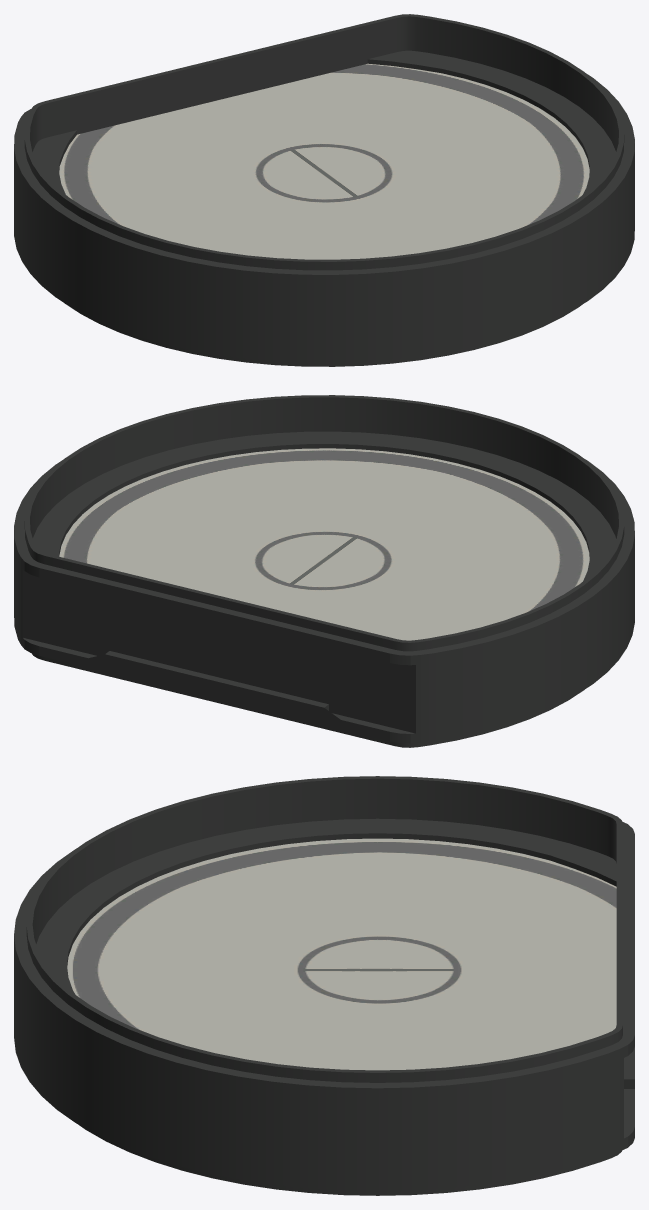
File: EDITOR_door_entry.obj
The picture shows the model from 3 angles, top to bottom: view 1: azimuth 30°, elevation 25°; view 2: azimuth 150°, elevation 25°; view 3: azimuth 270°, elevation 25°; orthographic projection. The views are drawn at different scales.
Parts seen in each view (by area): view 1: Body.dmx/entry_door_model.dmx.mesh_0; view 2: Body.dmx/entry_door_model.dmx.mesh_0; view 3: Body.dmx/entry_door_model.dmx.mesh_0.
Boxes of the visible parts, <box> form: Body.dmx/entry_door_model.dmx.mesh_0: <box>14,14,634,366</box>; Body.dmx/entry_door_model.dmx.mesh_0: <box>14,395,634,747</box>; Body.dmx/entry_door_model.dmx.mesh_0: <box>14,776,634,1195</box>.
Bounding box in the file's own units: 127 × 23.74 × 109.
